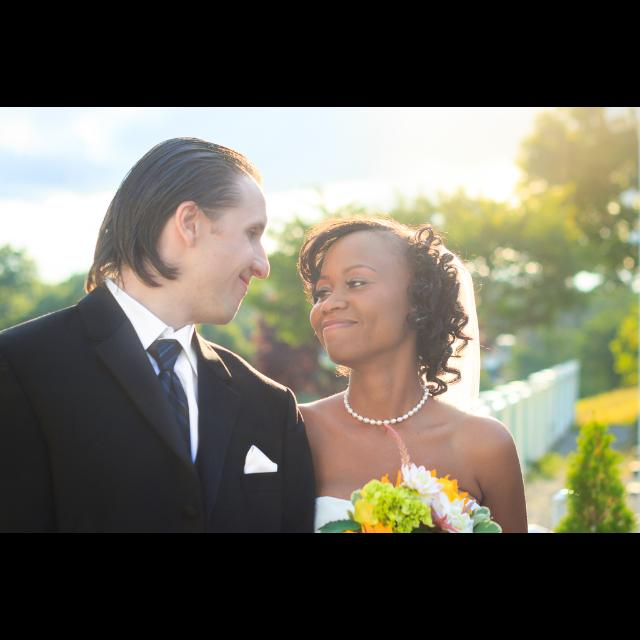Flower: (344, 462, 504, 534)
